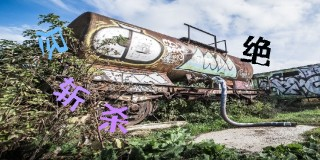尽: (36, 26, 68, 59)
斩: (52, 76, 90, 111)
杀: (98, 103, 128, 134)
绝: (241, 34, 271, 67)
